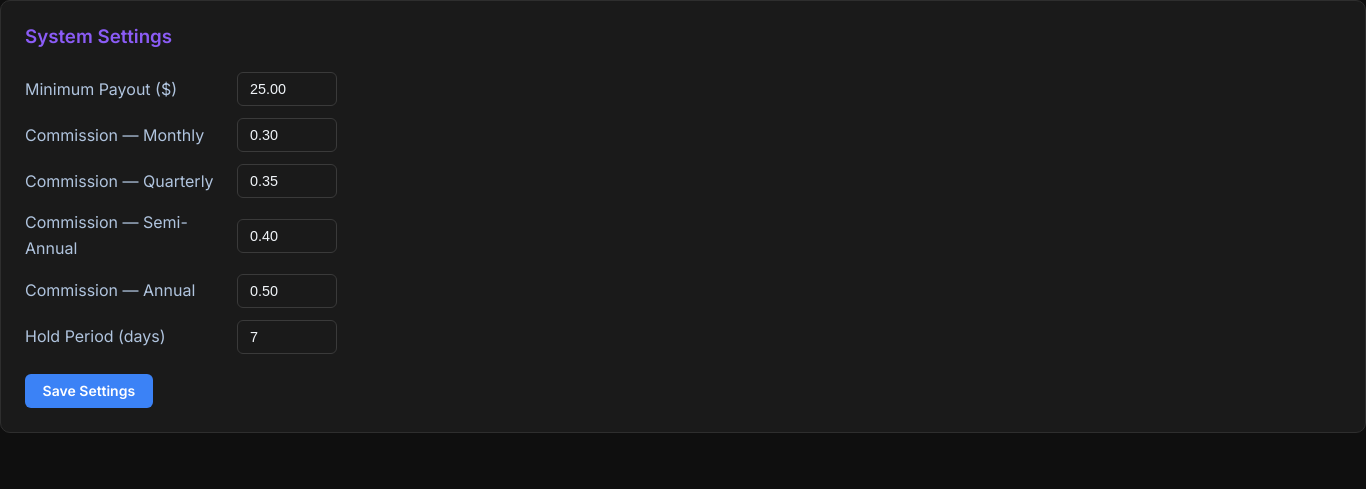
Test case: SettingsTab › shows error message when save fails
Check: the heading "System Settings" is shown, box [25,25,172,48]
Click the button "Save Settings" at (89, 391), box [25,374,153,408]
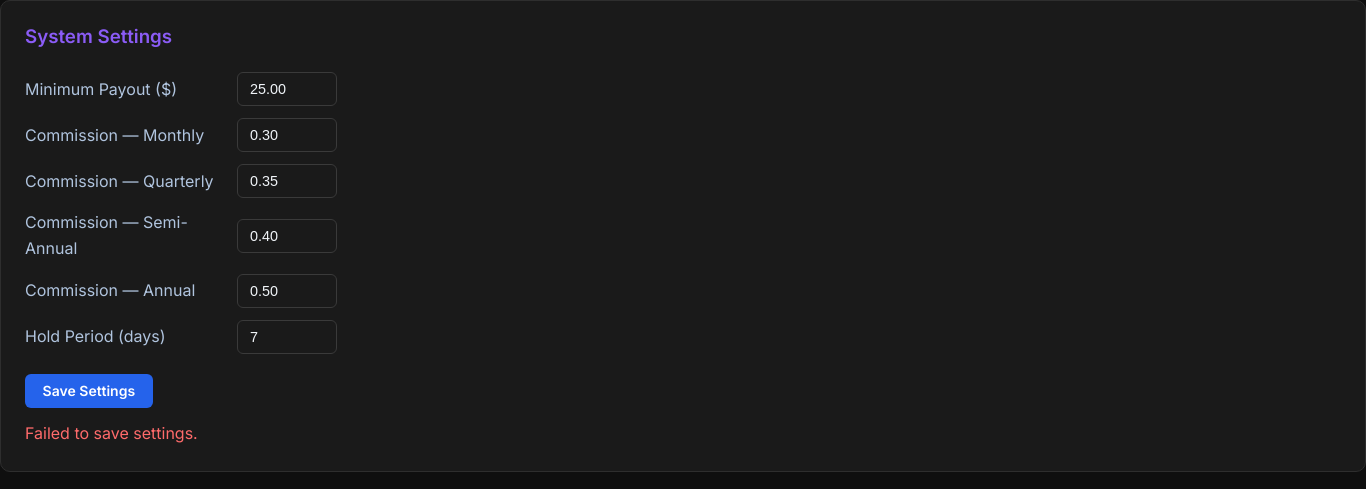
Check: the text "Failed to save settings." is shown, box [25,423,198,443]
